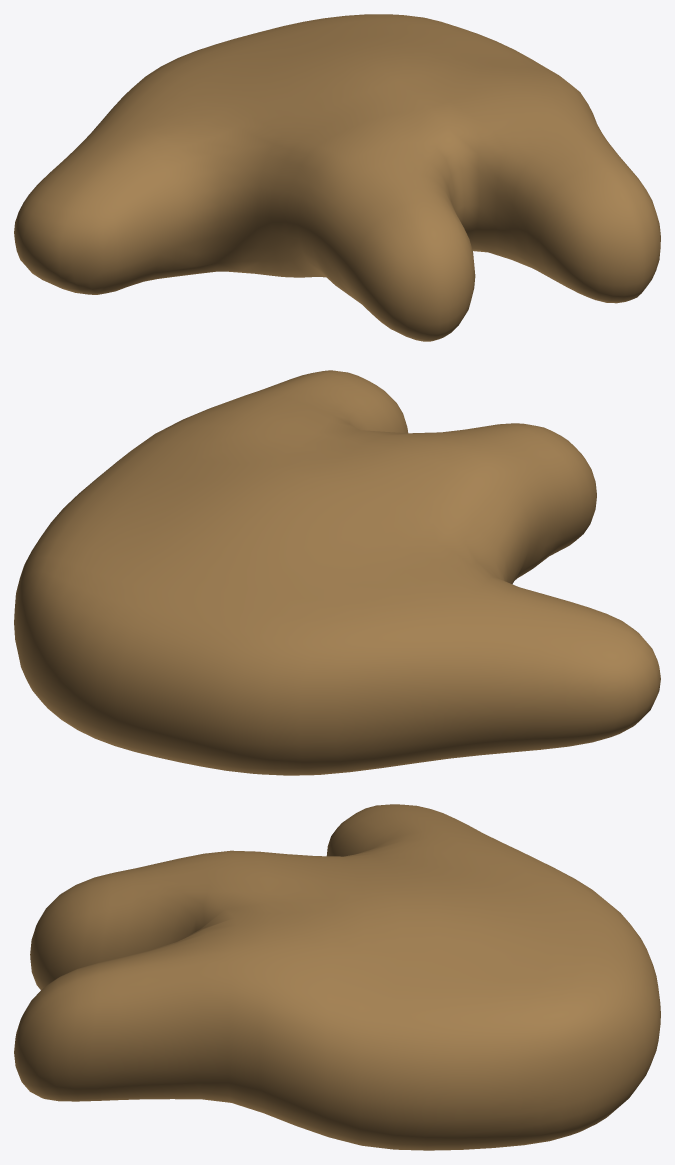
Rendered from left-hand.fbx.
3 views of the same model, one above another, from view 1: azimuth 30°, elevation 25°; view 2: azimuth 150°, elevation 25°; view 3: azimuth 270°, elevation 25° (orthographic). The views are drawn at different scales.
Visible parts, largest first — view 1: Left Hand; view 2: Left Hand; view 3: Left Hand.
Boxes of the visible parts, <box> form: Left Hand: <box>14,14,660,341</box>; Left Hand: <box>14,370,660,775</box>; Left Hand: <box>14,804,660,1150</box>.
Size of the model in its own units: 15.99 by 5.25 by 15.84.
